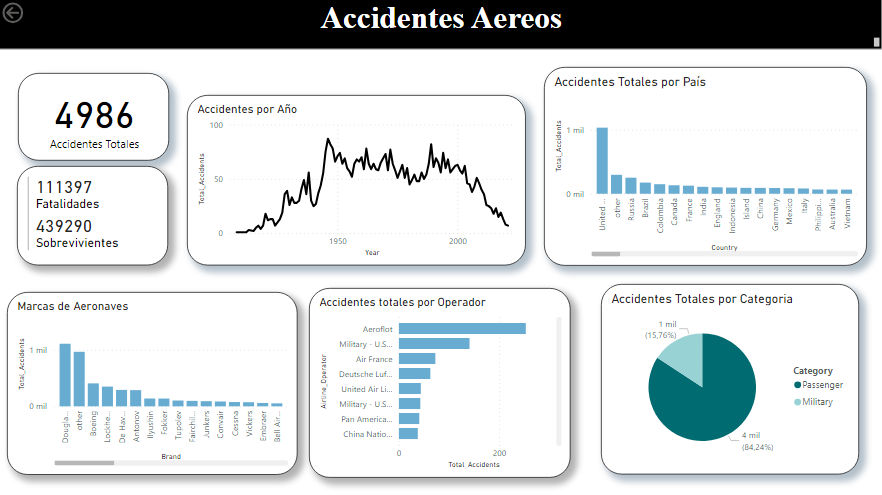

Layout of this report page (visuals, bound fields, positions):
{"tool":"powerbi","page":{"name":"Presentación","canvas":[1280,720],"ordinal":1},"visuals":[{"type":"textbox","title":"Accidentes Aereos","box":[0,0,1280,72.9],"z":0},{"type":"card","fields":{"Values":["Medidas.total_accidents"]},"box":[26.9,107.5,219.4,126.9],"z":1000},{"type":"lineChart","title":"Accidentes por Año ","fields":{"Category":["Calendario.Date.Variación.Date Hierarchy.Year"],"Y":["Medidas.total_accidents"]},"box":[271.9,138.6,491.2,247.4],"z":2000},{"type":"clusteredColumnChart","title":"Accidentes Totales por País","fields":{"Y":["Medidas.total_accidents"],"Category":["AccidentesAviones1.Country"]},"box":[789.5,98.2,468.4,287.7],"z":3000},{"type":"pieChart","title":"Accidentes Totales por Categoria","fields":{"Y":["Medidas.total_accidents"],"Category":["AccidentesAviones1.Category"]},"box":[872.1,413.2,373.5,276.5],"z":4000},{"type":"clusteredBarChart","title":"Accidentes totales por Operador","fields":{"Y":["Medidas.total_accidents"],"Category":["AccidentesAviones1.Airline_Operator"]},"box":[450,419.1,379.4,275],"z":5000},{"type":"clusteredColumnChart","title":"Marcas de Aeronaves","fields":{"Y":["Medidas.total_accidents"],"Category":["AccidentesAviones1.Brand"]},"box":[11.8,425,420.6,264.7],"z":6000},{"type":"actionButton","box":[0,0,100,40],"z":7000},{"type":"multiRowCard","title":"Total de fallecidos","fields":{"Values":["Medidas.total_fatalidades","Medidas.total_sobrevivientes"]},"box":[26.3,242.1,219.3,143.9],"z":8000}]}

Visuals, with their boxes in screenshot pixels (x1, y1, x2, y2), scaled from the page's 1280x720 canvas onto the 882x495 screenshot:
"Accidentes Aereos" textbox: locate(0, 0, 881, 50)
card - Medidas.total_accidents: locate(19, 74, 170, 161)
"Accidentes por Año " lineChart: locate(187, 95, 526, 265)
"Accidentes Totales por País" clusteredColumnChart: locate(544, 68, 867, 265)
"Accidentes Totales por Categoria" pieChart: locate(601, 284, 858, 474)
"Accidentes totales por Operador" clusteredBarChart: locate(310, 288, 572, 477)
"Marcas de Aeronaves" clusteredColumnChart: locate(8, 292, 298, 474)
actionButton: locate(0, 0, 69, 28)
"Total de fallecidos" multiRowCard: locate(18, 166, 169, 265)
